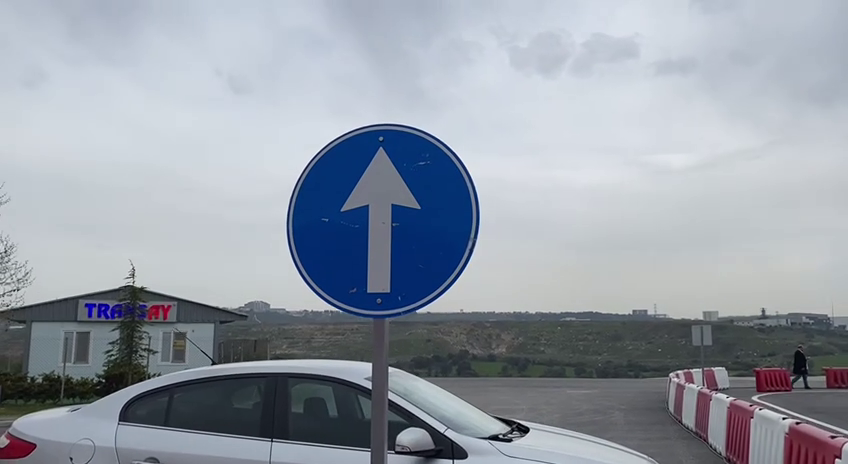forward: (280, 117, 488, 322)
